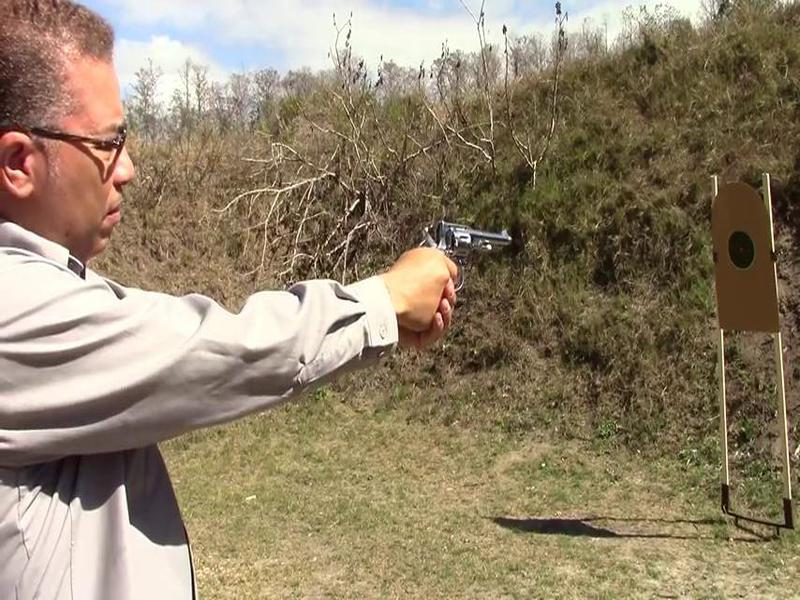Revolver: (409, 208, 534, 301)
